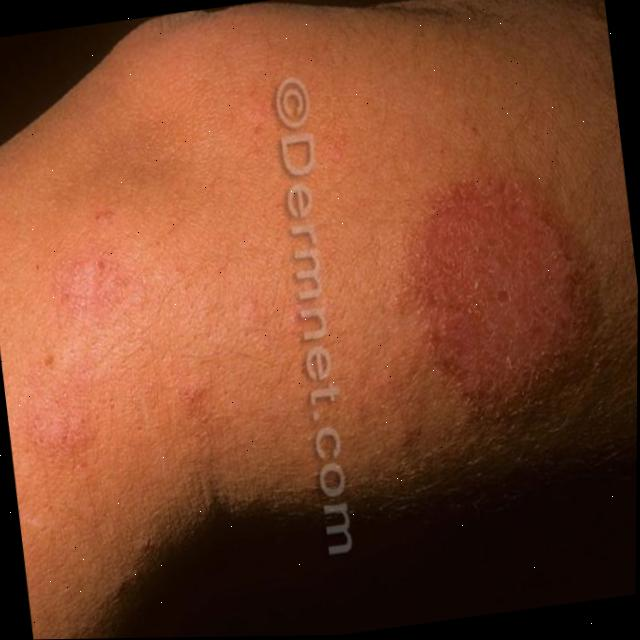Eczema: (0, 226, 145, 481), (420, 207, 578, 389)
